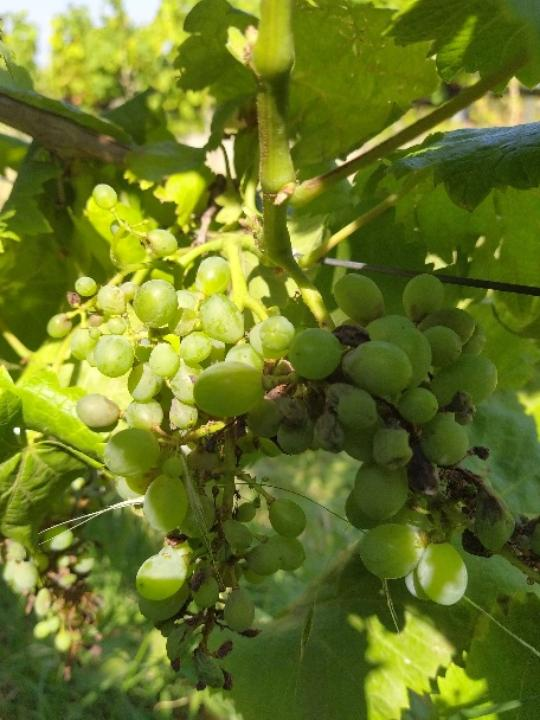grape: (47, 185, 540, 701)
